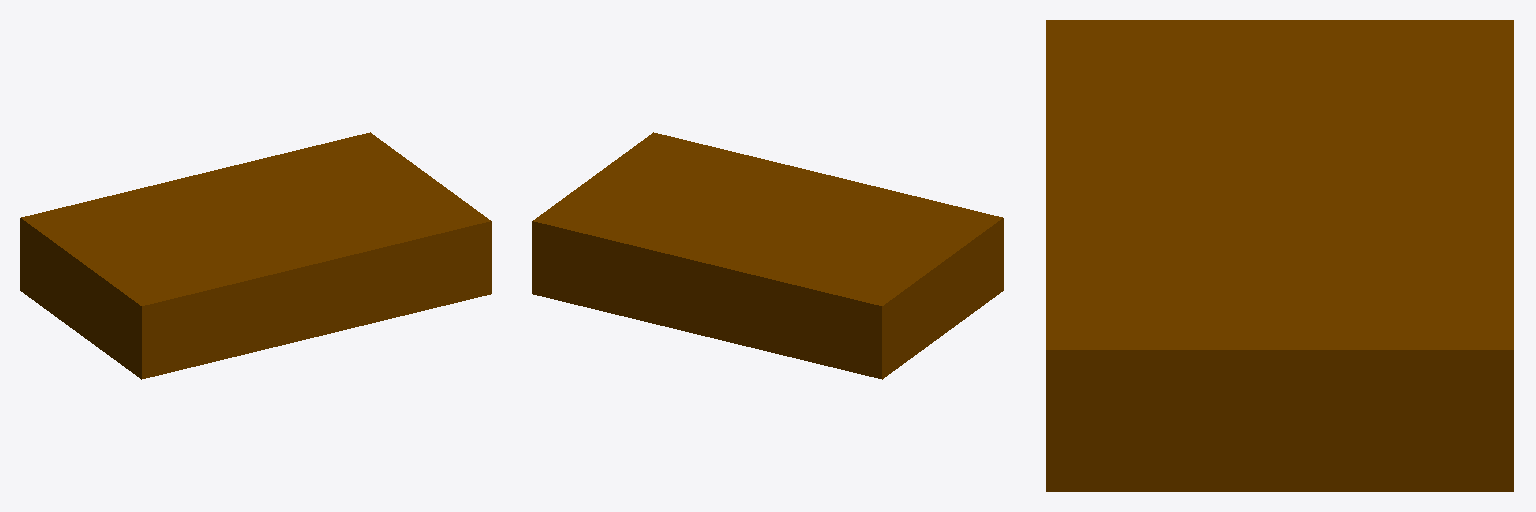
robot.urdf — mycar:
<robot name="mycar">
    <link name="base_link">
        <!-- 可视化部分 -->
        <visual>
            <geometry>
                <box size="0.5 0.3 0.1" />
            </geometry>

            <origin xyz="0 0 0" rpy="0 0 0" />
            <material name="yellow">
                <color rgba="0.5 0.3 0 0.5" />
            </material>
        </visual>

        <!-- 设置碰撞参数 -->
        <!-- 如果是标准几何体 直接复制 visual 中的 geometry 和 origin 即可 -->
        <collision>
            <geometry>
                <box size="0.5 0.3 0.1" />
            </geometry>

            <origin xyz="0 0 0" rpy="0 0 0" />
        </collision>
        <!-- 设置惯性矩阵 -->
        <inertial>
            <origin xyz="0 0 0" />
            <mass value="6" />
            <inertia ixx="1" ixy="0" ixz="0" iyy="0" iyz="1" izz="1" />
        </inertial>
    </link>
    <!-- gzebo 有自己的颜色设置 -->
    <gazebo reference="base_link">
        <material>Gazebo/Red</material>
    </gazebo>
</robot>

--- Facts derived from the render (not from the file) ---
3 views of the same robot in one strip: view 1: azimuth 30°, elevation 25°; view 2: azimuth 150°, elevation 25°; view 3: azimuth 270°, elevation 25° (orthographic).
Model mycar with 1 links and 0 joints (none), rooted at base_link, posed all joints at 0.
Visible links, largest first — view 1: base_link; view 2: base_link; view 3: base_link.
Boxes of the visible links, left/top/right/bottom form: base_link: left=20, top=132, right=491, bottom=379; base_link: left=532, top=132, right=1003, bottom=379; base_link: left=1046, top=20, right=1513, bottom=491.
Bounding box of the posed robot: 0.5 × 0.3 × 0.1 m (x, y, z).
Geometry: primitives only (box / cylinder / sphere), no mesh files.
